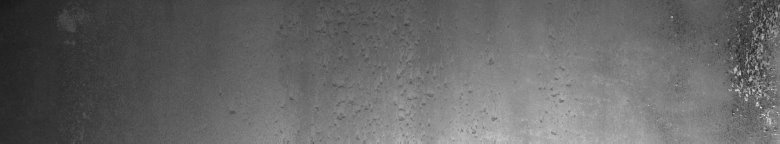hc: (671, 4, 776, 124)
